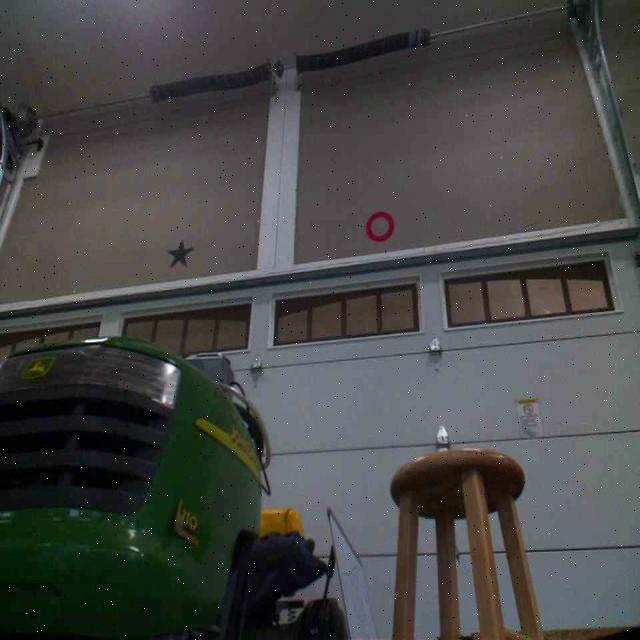ring_red: (364, 209, 395, 242)
star_black: (167, 238, 194, 268)
